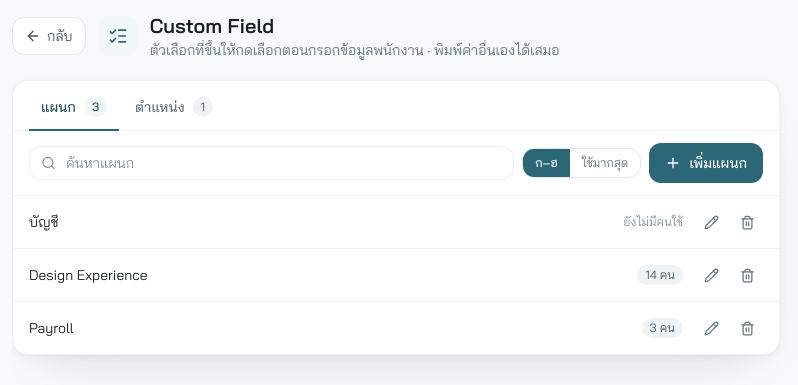
Test: FieldOptionsPage › shows one field at a time, as tabs that carry their counts
Expected: the text "Payroll" is shown, [29,319,74,337]
Expected: the text "เจ้าหน้าที่บัญชี" is not shown
Click the tab "ตำแหน่ง 1" at point(174, 112), box [123,93,225,131]
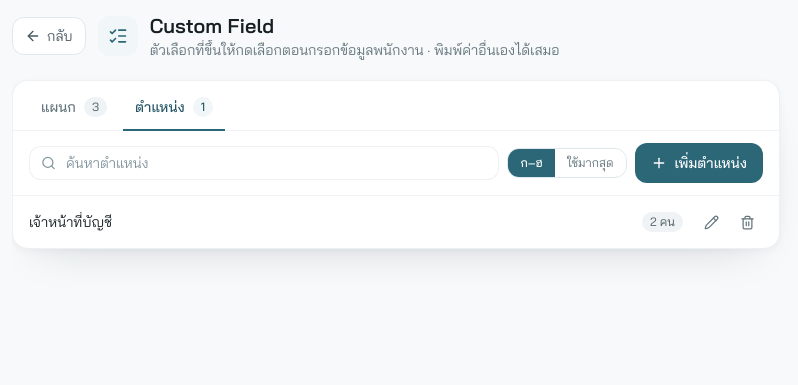
Now the text "เจ้าหน้าที่บัญชี" is shown, box [29,213,112,231]
Now the text "Payroll" is gone
